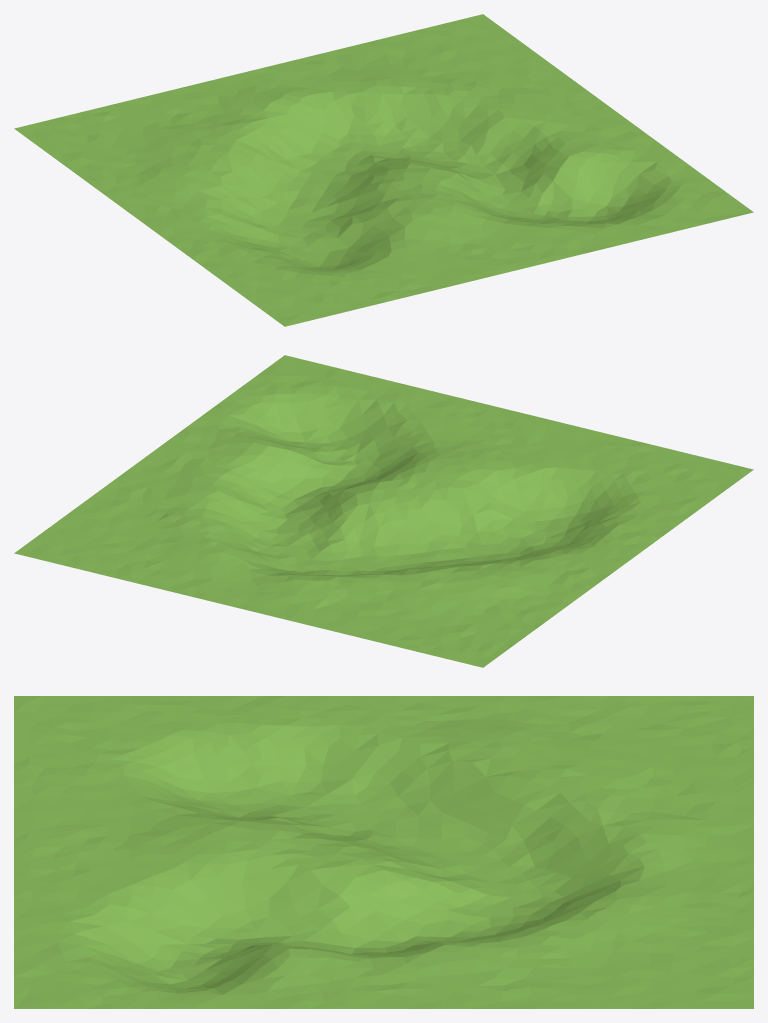
File: MT_Terrain_L_b_10_LOD.fbx
3 renders of one model, top to bottom at view 1: azimuth 30°, elevation 25°; view 2: azimuth 150°, elevation 25°; view 3: azimuth 270°, elevation 25°, orthographic. The views are drawn at different scales.
Parts seen in each view (by area): view 1: MT_Terrain_L_b_10_LOD0; view 2: MT_Terrain_L_b_10_LOD0; view 3: MT_Terrain_L_b_10_LOD0.
Part boxes in pixels (x1,y1,x2,y2): MT_Terrain_L_b_10_LOD0: (14, 14, 753, 326); MT_Terrain_L_b_10_LOD0: (14, 355, 753, 667); MT_Terrain_L_b_10_LOD0: (14, 696, 753, 1008).
Size of what is drawn, in the model's own units: 10000 by 544 by 10000.
